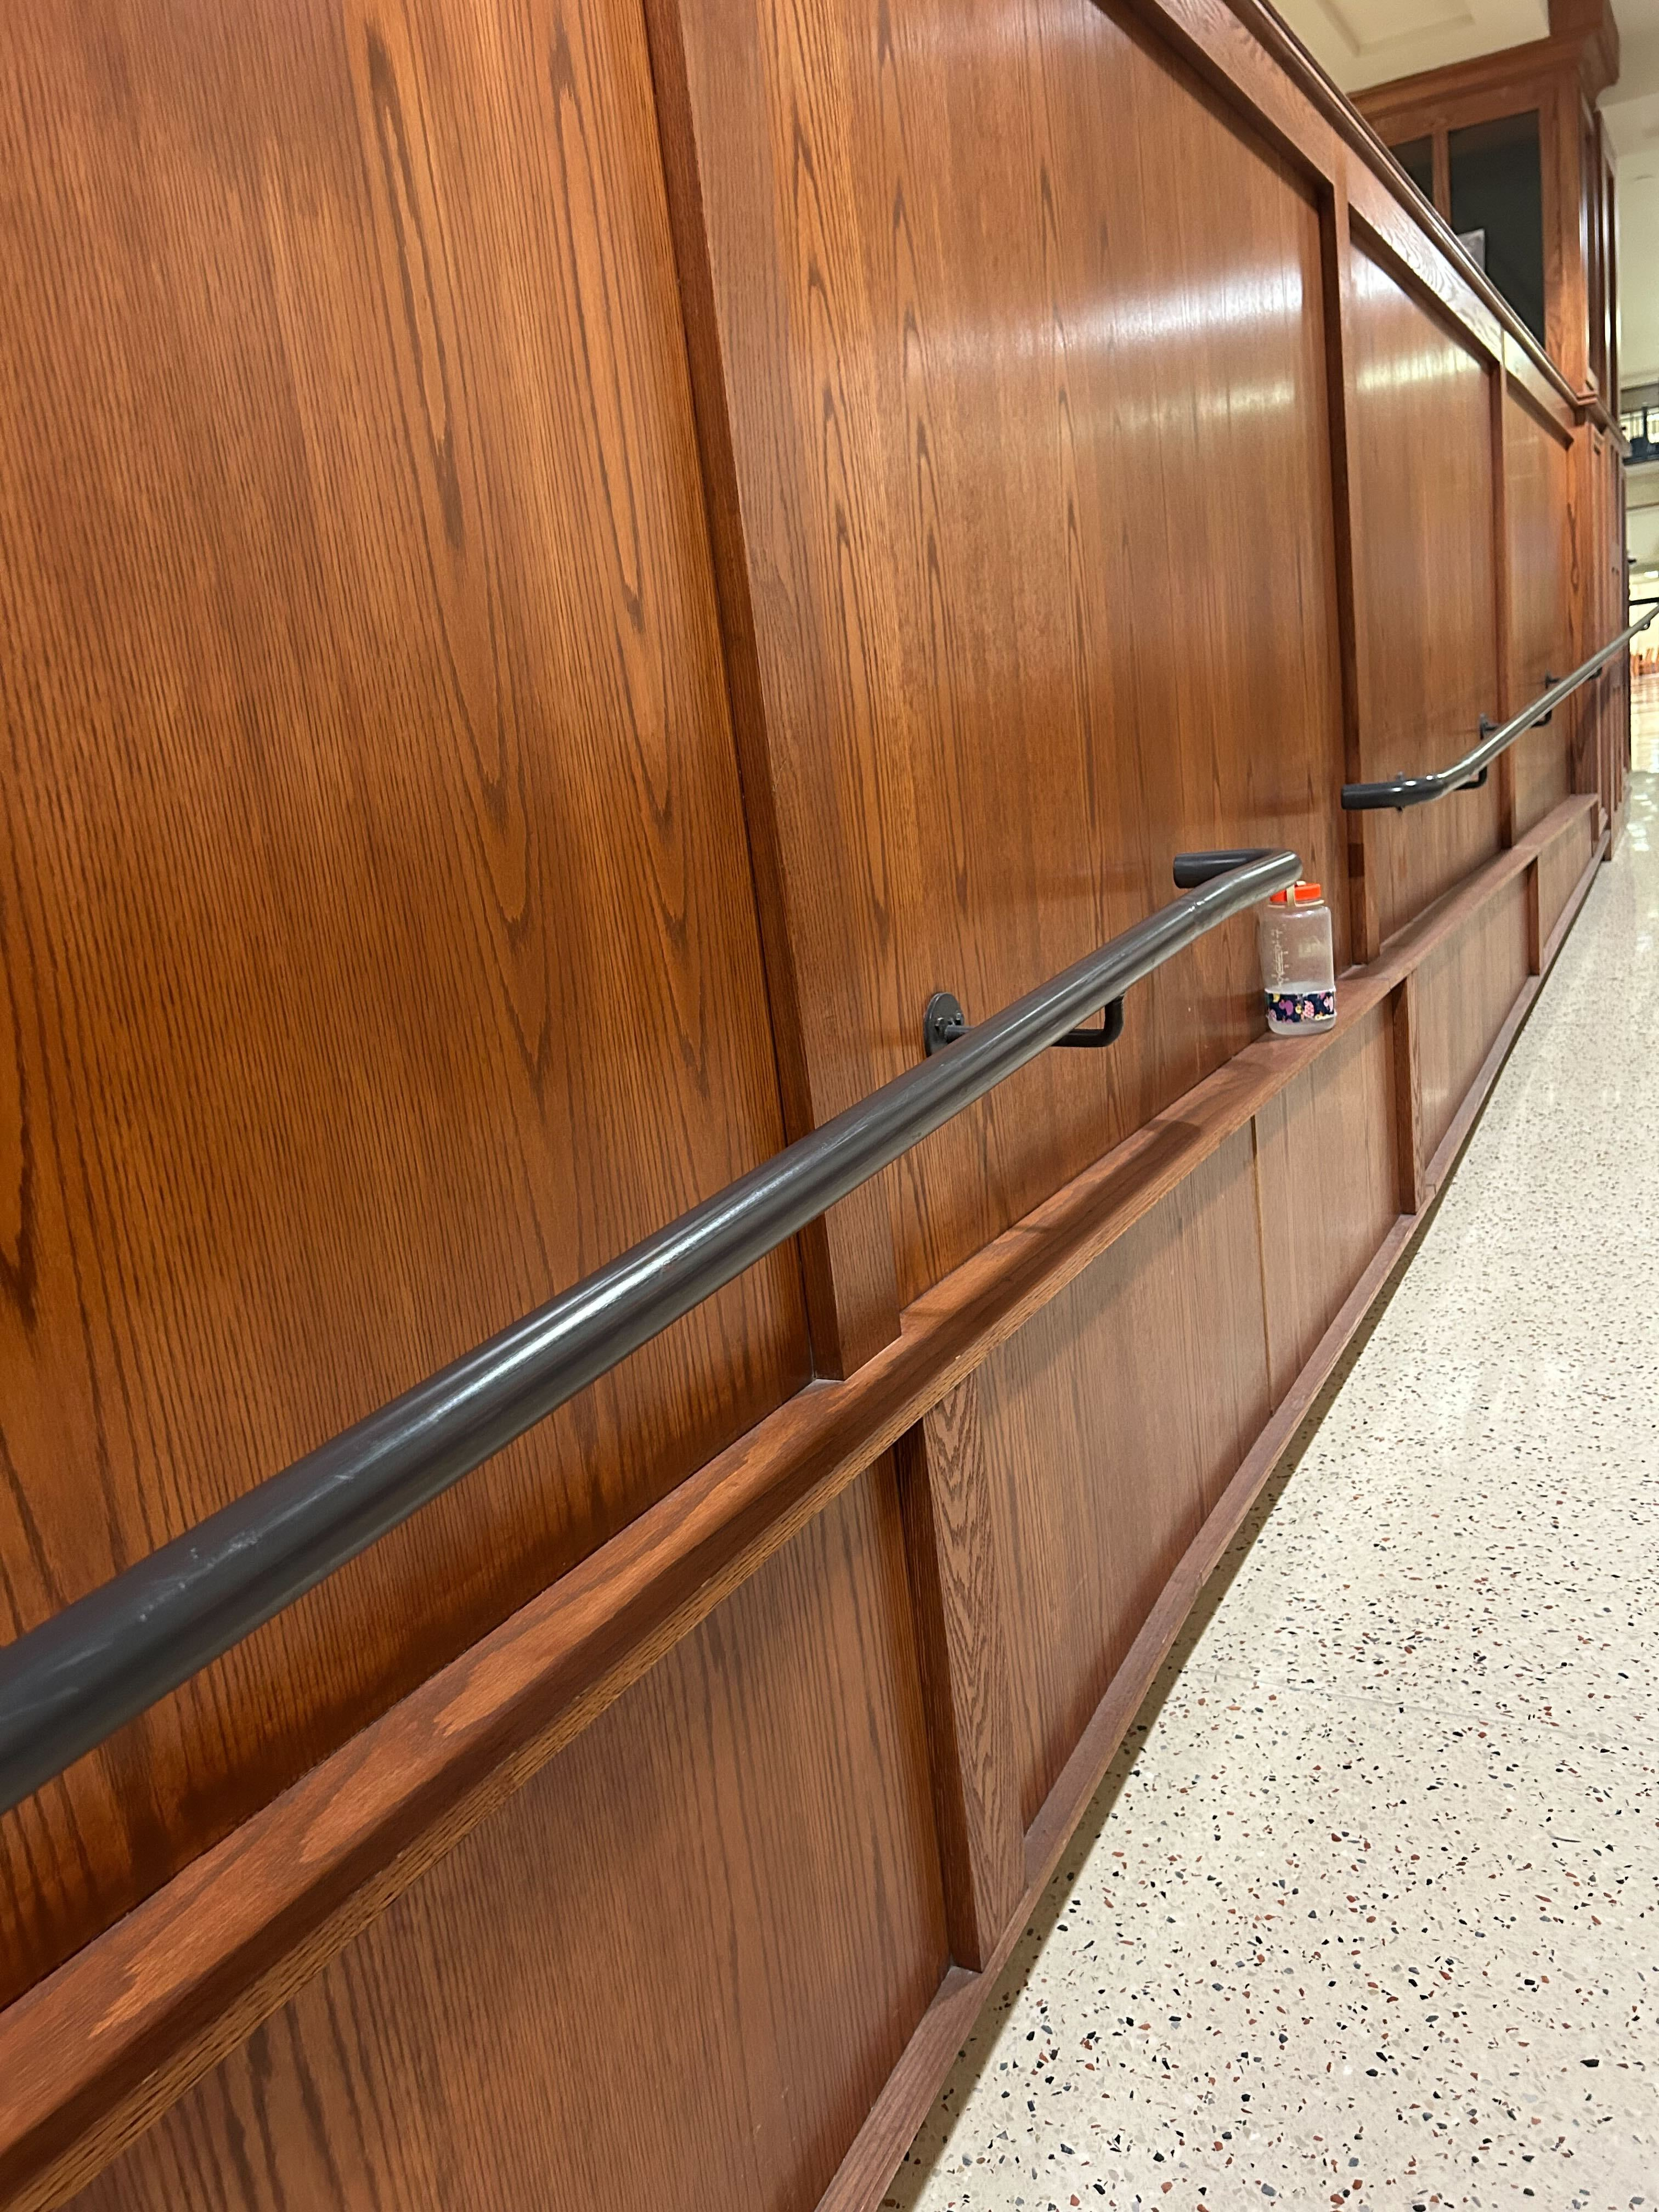bottle: (1255, 873, 1340, 1049)
